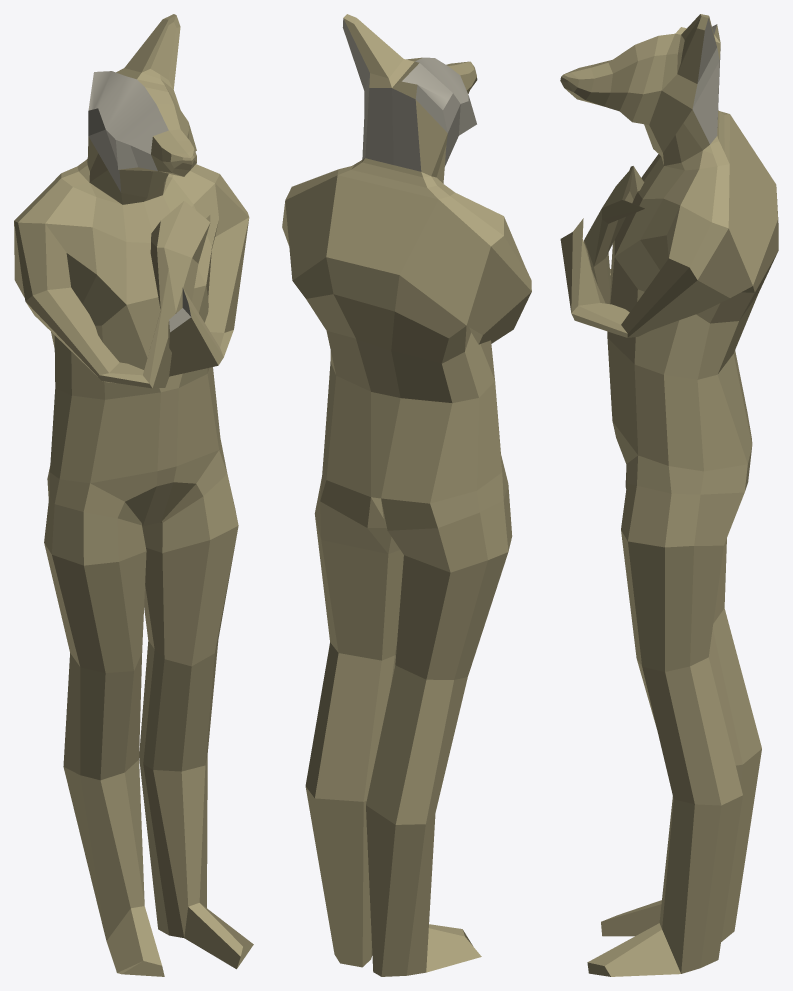
Rendered from Stand_Statue_A.fbx.
3 renders of one model, left to right at view 1: azimuth 30°, elevation 25°; view 2: azimuth 150°, elevation 25°; view 3: azimuth 270°, elevation 25°, orthographic. The views are drawn at different scales.
Visible parts, largest first — view 1: Statue3; view 2: Statue3; view 3: Statue3.
Boxes of the visible parts, bbox=[...] form: Statue3: bbox=[14, 14, 253, 976]; Statue3: bbox=[282, 14, 531, 976]; Statue3: bbox=[560, 14, 778, 976].
Size of the model in its own units: 128 by 487 by 101.
